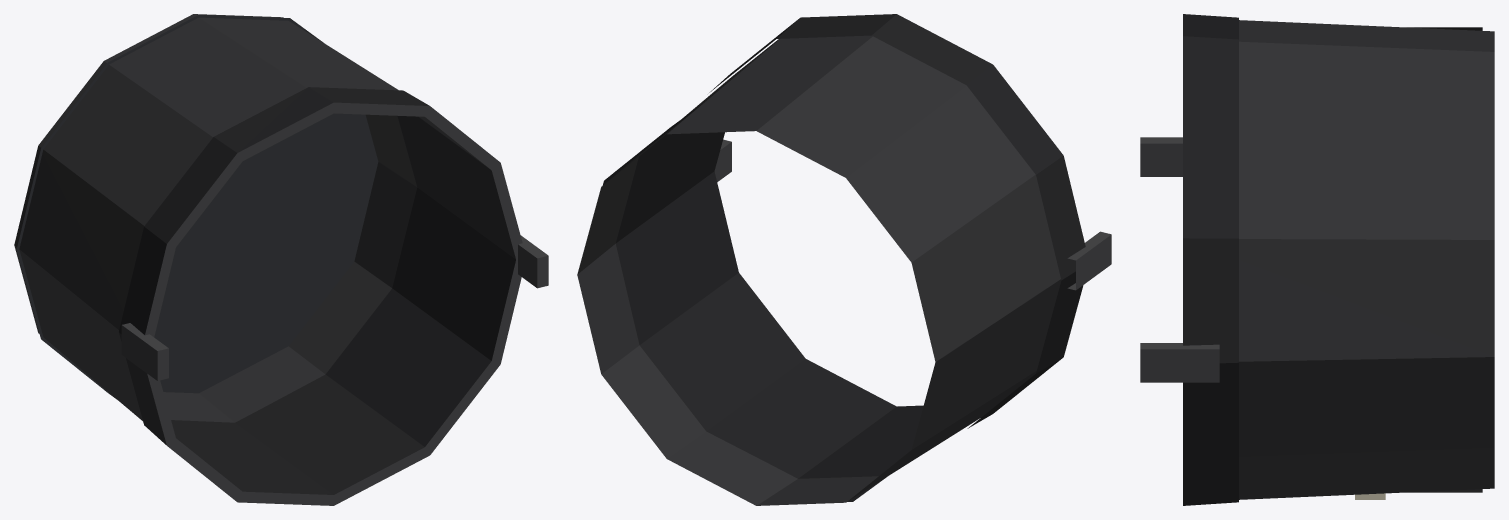
File: a_bag_l.obj
The picture shows the model from 3 angles, left to right: view 1: azimuth 30°, elevation 25°; view 2: azimuth 150°, elevation 25°; view 3: azimuth 270°, elevation 25°; orthographic projection. The views are drawn at different scales.
Size of the model in its own units: 0.8204 by 0.8143 by 0.5802.
1 material, 1 textured.
